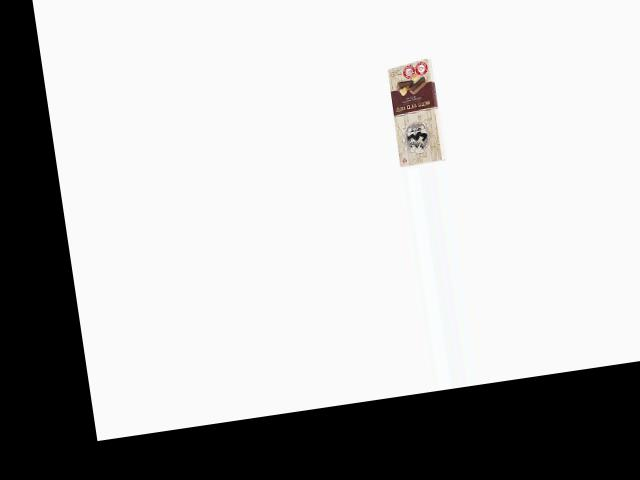chocolate: (383, 55, 454, 167)
